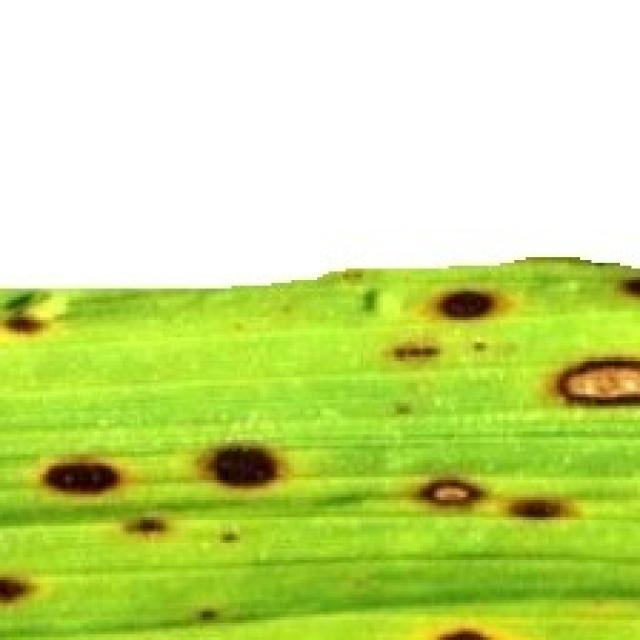Unhealthy: (546, 355, 640, 409), (197, 440, 291, 494), (34, 457, 129, 506), (429, 289, 514, 326), (422, 477, 483, 507), (0, 571, 43, 609), (507, 499, 572, 519), (121, 514, 173, 538), (394, 344, 444, 361), (3, 314, 40, 334), (615, 273, 640, 298), (437, 629, 486, 640), (391, 398, 413, 420), (472, 340, 488, 355), (199, 609, 216, 621), (222, 533, 242, 543)
